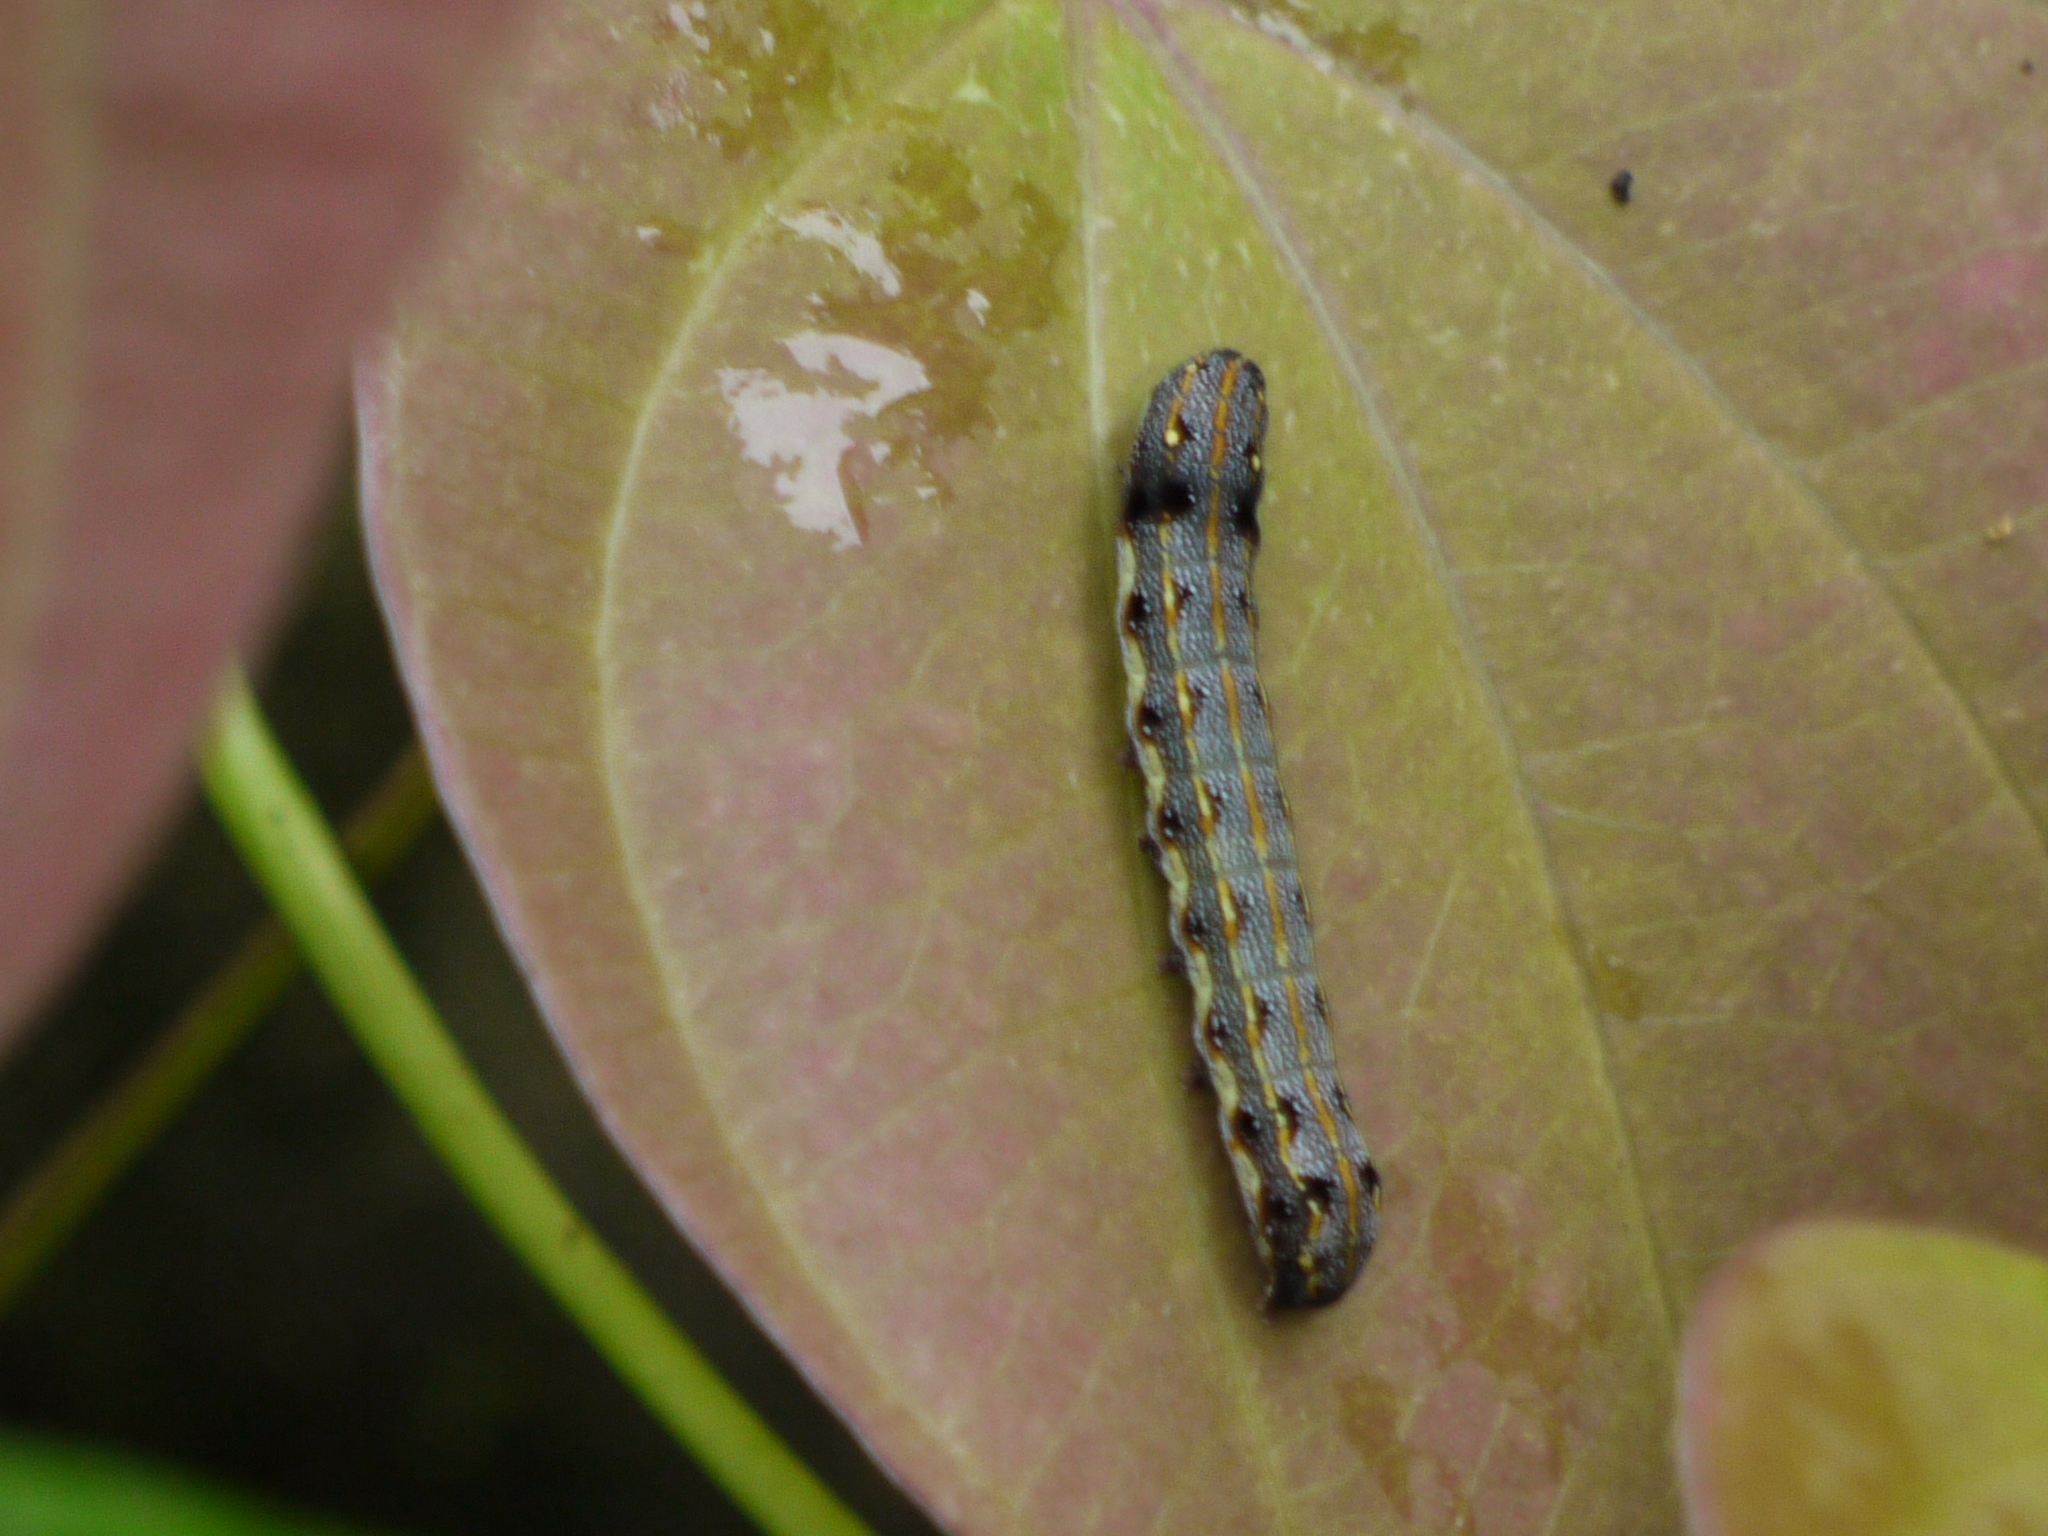Armyworm: (1043, 305, 1445, 1329)
